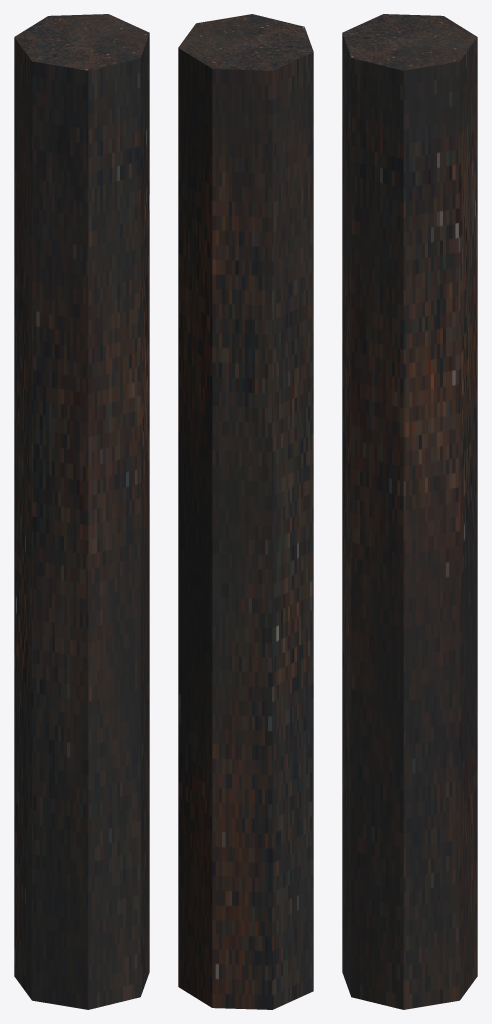
The model's file is ironrod.fbx.
The picture shows the model from 3 angles, left to right: view 1: azimuth 30°, elevation 25°; view 2: azimuth 150°, elevation 25°; view 3: azimuth 330°, elevation 25°; orthographic projection.
Parts seen in each view (by area): view 1: Cylinder.007; view 2: Cylinder.007; view 3: Cylinder.007.
Part boxes in pixels (x1,y1,x2,y2): Cylinder.007: (14, 14, 149, 1009); Cylinder.007: (178, 14, 313, 1009); Cylinder.007: (342, 14, 477, 1009).
Size of the model in its own units: 232 by 1772 by 226.
